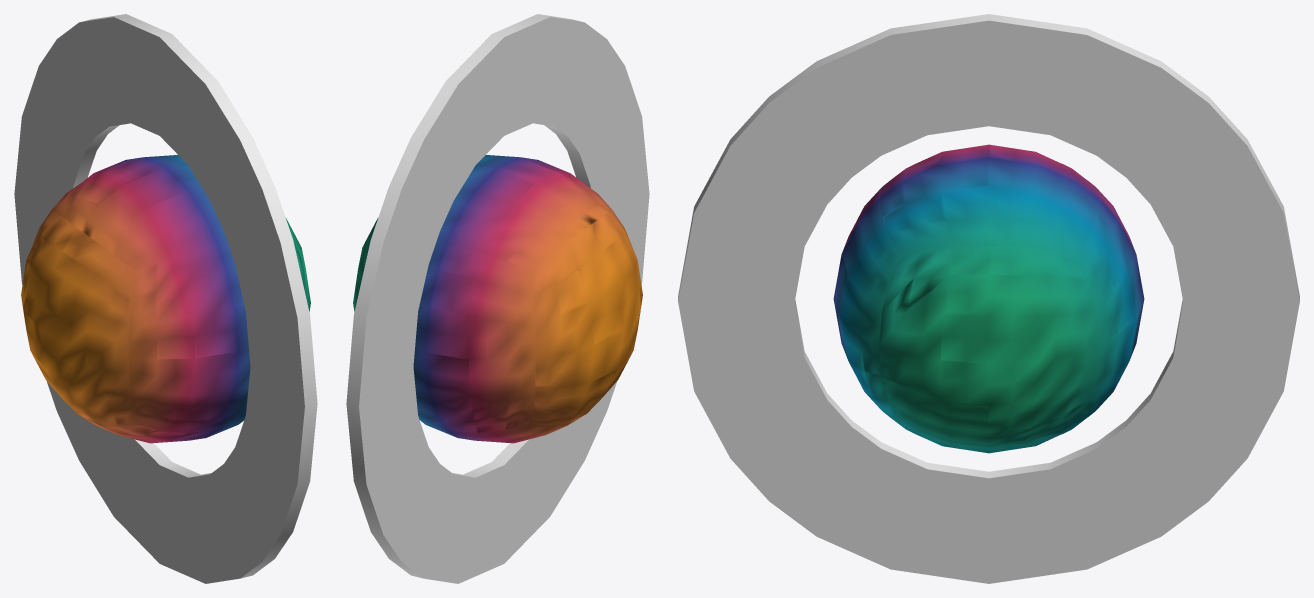
The picture shows the model from 3 angles, left to right: view 1: azimuth 30°, elevation 25°; view 2: azimuth 150°, elevation 25°; view 3: azimuth 270°, elevation 25°; orthographic projection. The views are drawn at different scales.
Visible parts, largest first — view 1: ringfinal, ballfinal; view 2: ringfinal, ballfinal; view 3: ringfinal, ballfinal.
Boxes of the visible parts, x1,y1,x2,y2 form: ringfinal: (14, 14, 317, 583); ballfinal: (21, 155, 310, 443); ringfinal: (346, 14, 649, 583); ballfinal: (353, 155, 642, 443); ringfinal: (678, 14, 1299, 583); ballfinal: (833, 144, 1144, 453).
Size of the model in its own units: 8.35 by 16.7 by 16.7.
2 materials, 1 textured.
